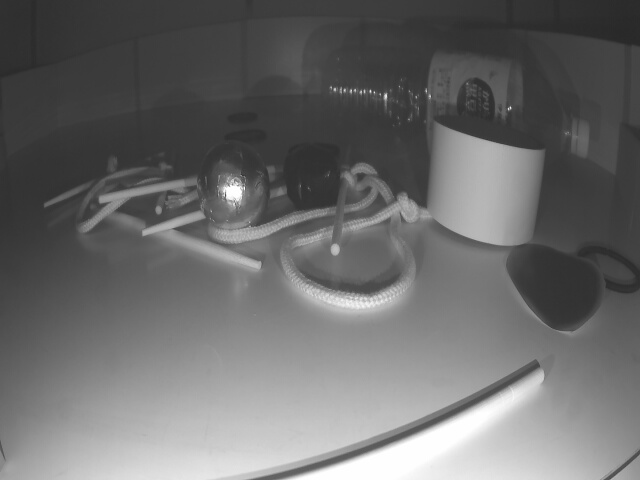Dead: (283, 139, 343, 209)
Live: (196, 144, 271, 237)
